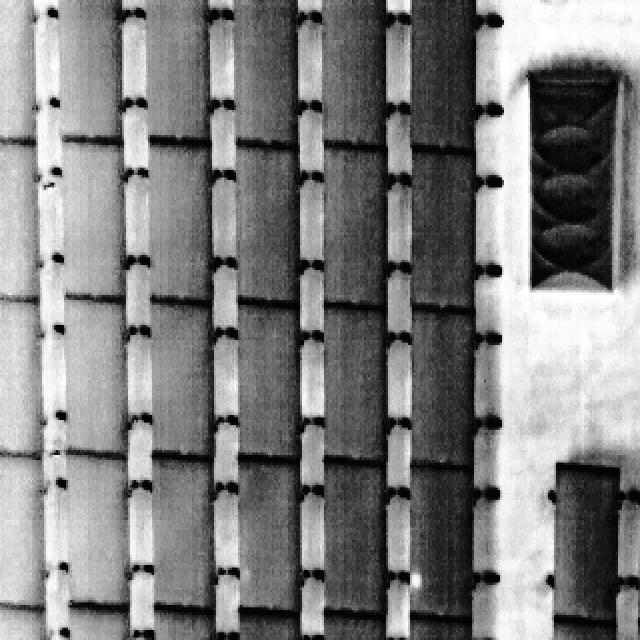Hotspots: (409, 560, 426, 596), (242, 564, 252, 588)
PV-modules: (322, 146, 390, 309), (409, 307, 475, 472), (411, 148, 476, 315), (236, 142, 300, 310), (553, 466, 621, 624), (61, 135, 126, 299), (323, 304, 387, 466), (150, 141, 213, 305), (238, 459, 301, 620), (410, 466, 474, 624), (68, 453, 130, 616), (153, 449, 215, 612), (322, 0, 388, 153), (411, 1, 477, 153), (232, 0, 299, 149), (323, 462, 386, 619), (66, 299, 128, 458), (239, 300, 299, 464), (152, 303, 213, 463), (58, 0, 123, 143), (148, 2, 211, 145), (0, 452, 46, 608), (0, 298, 43, 451), (1, 141, 40, 299), (0, 0, 37, 142), (70, 606, 131, 640), (156, 608, 216, 640), (241, 610, 303, 640), (324, 613, 385, 640), (410, 615, 472, 640), (1, 607, 47, 640), (555, 622, 618, 640)
